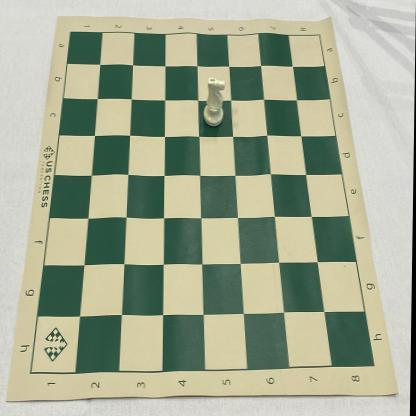white-knight: (204, 77, 226, 128)
